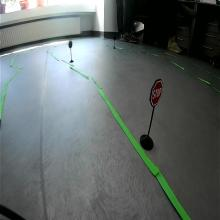stop: (150, 79, 164, 107)
